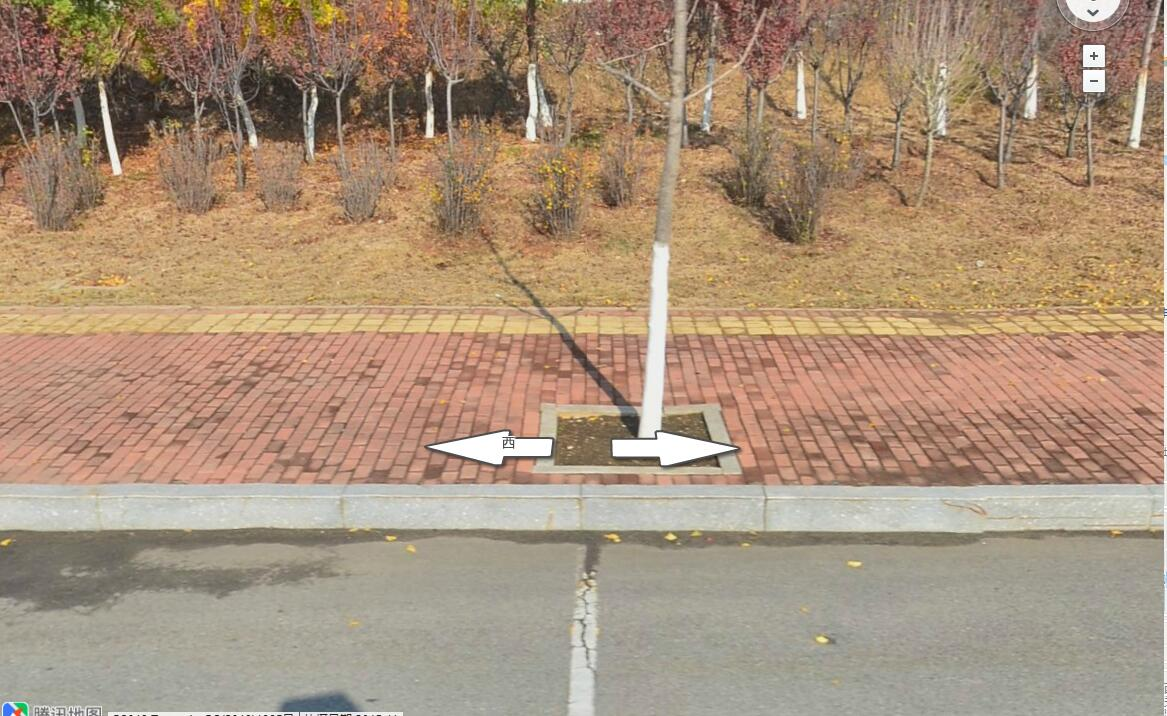side: (94, 481, 344, 529), (342, 483, 582, 531), (765, 486, 985, 533), (582, 485, 768, 531), (983, 485, 1155, 534)
